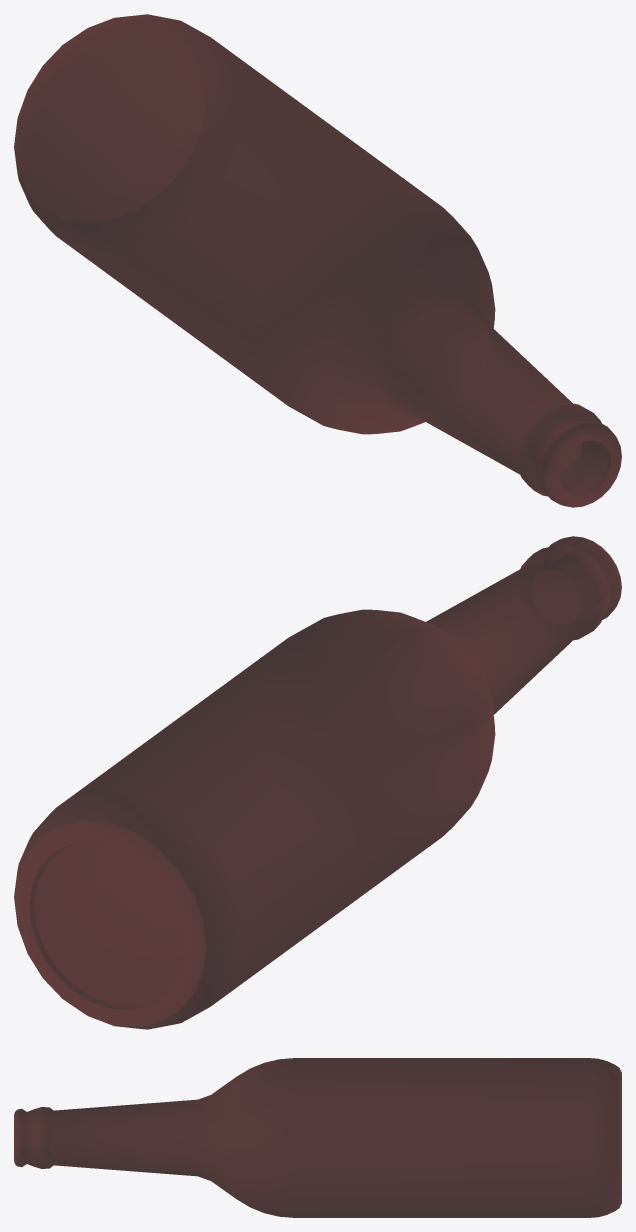
The model's file is model_scale.obj.
3 views of the same model, one above another, from view 1: azimuth 30°, elevation 25°; view 2: azimuth 150°, elevation 25°; view 3: azimuth 270°, elevation 25° (orthographic). The views are drawn at different scales.
Visible parts, largest first — view 1: mesh1_mesh1-geometry; view 2: mesh1_mesh1-geometry; view 3: mesh1_mesh1-geometry.
Boxes of the visible parts, x1,y1,x2,y2 form: mesh1_mesh1-geometry: (14, 14, 621, 507); mesh1_mesh1-geometry: (14, 536, 621, 1029); mesh1_mesh1-geometry: (14, 1058, 621, 1217).
Bounding box in the file's own units: 0.0696 × 0.0696 × 0.2637.
